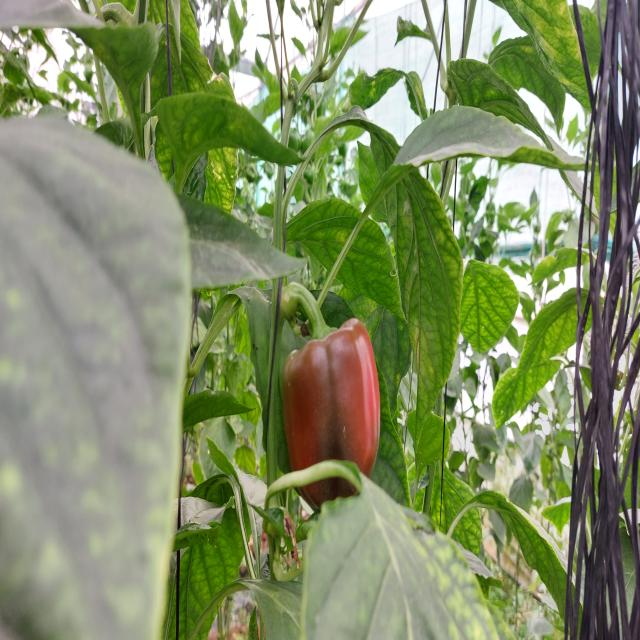BrownishRed--Can-be-Harvested: (279, 313, 379, 518)
